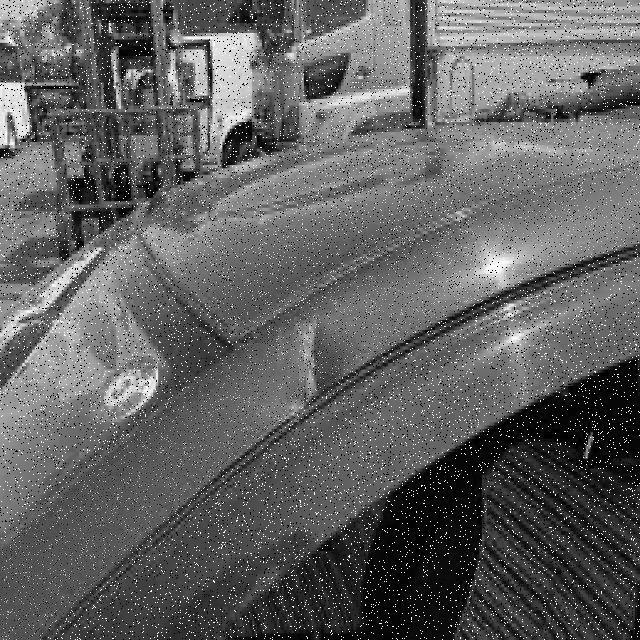roof-dent: (152, 121, 611, 434)
